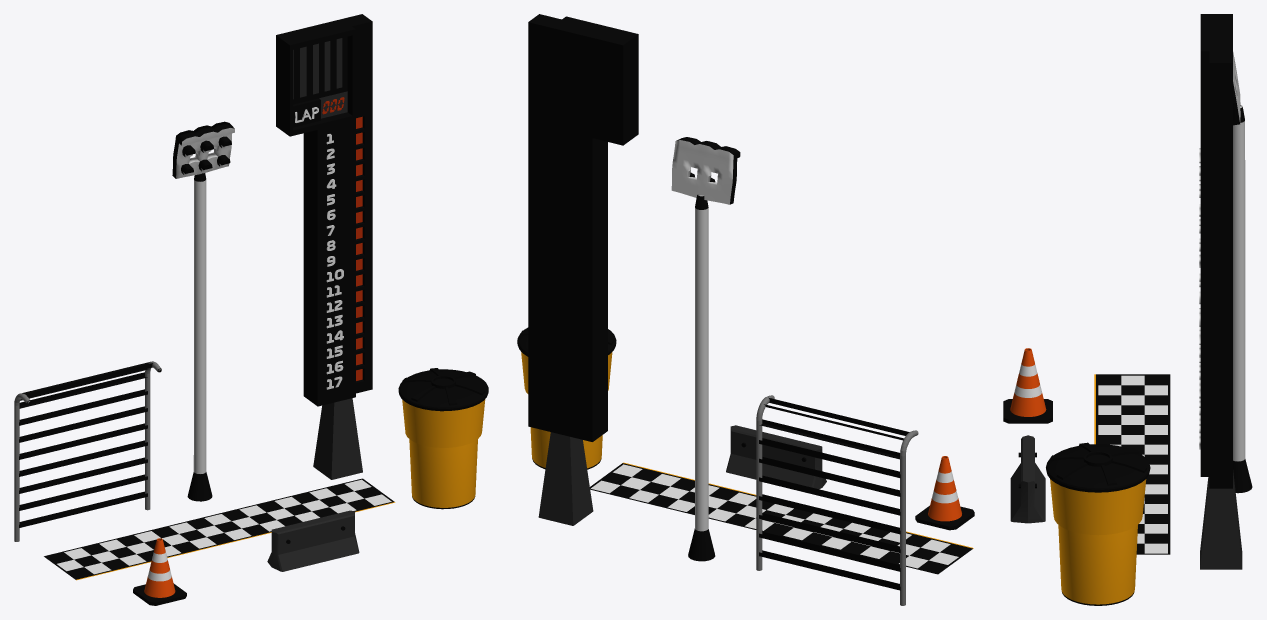
Rendered from uploads_files_4615748_Objects.fbx.
3 views of the same model, side by side, from view 1: azimuth 30°, elevation 25°; view 2: azimuth 150°, elevation 25°; view 3: azimuth 270°, elevation 25° (orthographic). The views are drawn at different scales.
Parts seen in each view (by area): view 1: Tower, Plane, Barrels, Gate, FloodLights, CementBlock, TrafficCone; view 2: Tower, Gate, Plane, FloodLights, CementBlock, TrafficCone, Barrels; view 3: Tower, Barrels, Plane, FloodLights, CementBlock, TrafficCone.
Boxes of the visible parts, x1=… form: Tower: x1=276, y1=14, x2=372, y2=479; Plane: x1=44, y1=478, x2=395, y2=580; Barrels: x1=398, y1=368, x2=488, y2=509; Gate: x1=14, y1=361, x2=161, y2=541; FloodLights: x1=172, y1=121, x2=234, y2=501; CementBlock: x1=267, y1=510, x2=359, y2=571; TrafficCone: x1=133, y1=538, x2=186, y2=605; Tower: x1=528, y1=14, x2=638, y2=525; Gate: x1=756, y1=395, x2=918, y2=605; Plane: x1=590, y1=462, x2=973, y2=574; FloodLights: x1=671, y1=137, x2=740, y2=561; CementBlock: x1=726, y1=425, x2=826, y2=489; TrafficCone: x1=915, y1=456, x2=974, y2=530; Barrels: x1=517, y1=327, x2=616, y2=469; Tower: x1=1199, y1=14, x2=1242, y2=569; Barrels: x1=1046, y1=442, x2=1150, y2=605; Plane: x1=1094, y1=374, x2=1170, y2=554; FloodLights: x1=1233, y1=52, x2=1252, y2=493; CementBlock: x1=1010, y1=435, x2=1045, y2=523; TrafficCone: x1=1003, y1=348, x2=1052, y2=423.
Size of the model in its own units: 1560 by 1624 by 712.
